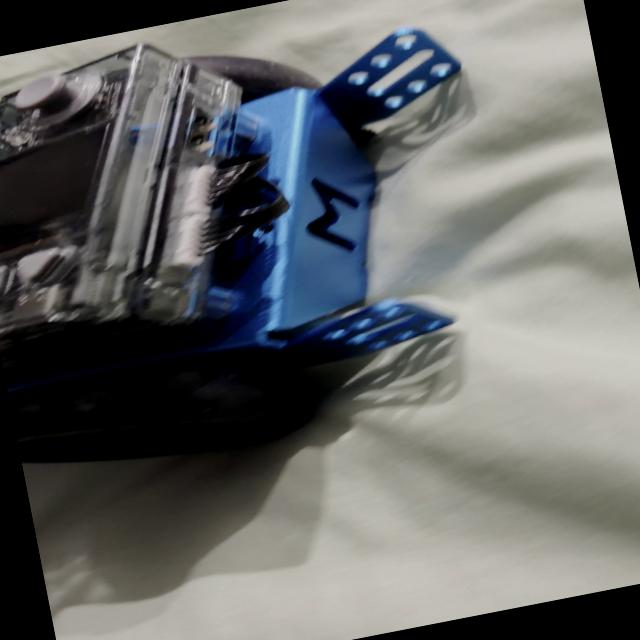mbot-detection: (0, 0, 532, 501)
